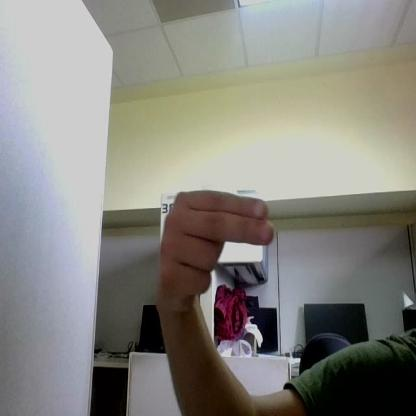H: (159, 190, 273, 311)
